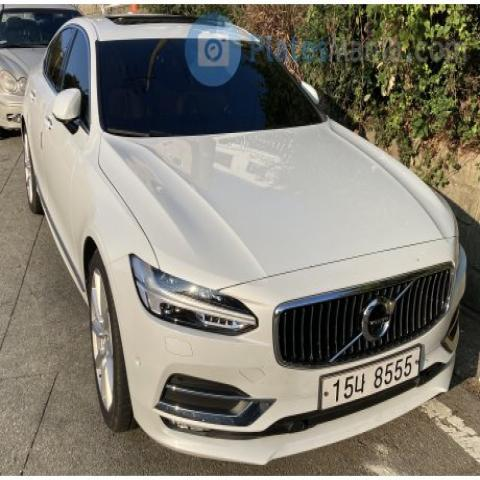LP: (306, 339, 427, 422)
